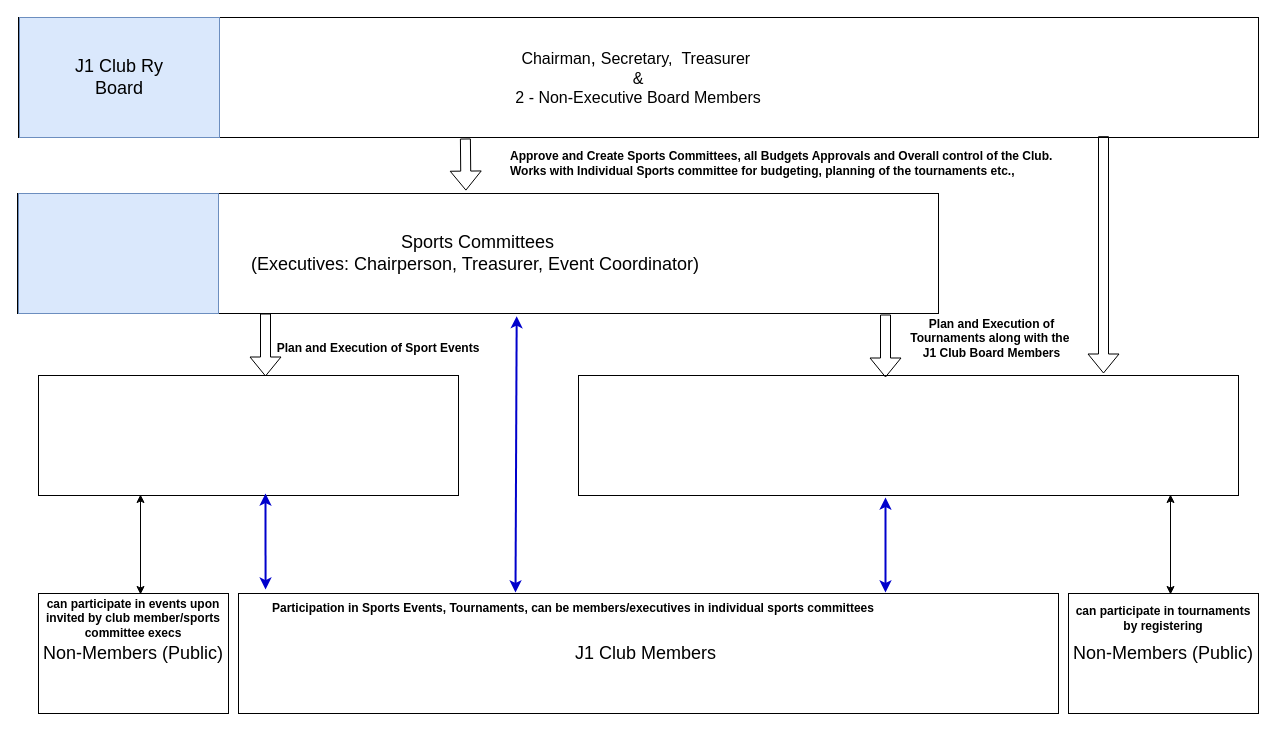
The diagram is 1276 pixels wide and 731 high, and some of its shapes have lost their labels. Here are the shapes that lost their labels. From the top down, the centre of each, then its label:
At (118,253): "J1 <sports> Committee".
At (248,435): "Sports Events (Recurring - Weekly)".
At (908,435): "Tournaments (Quarterly/Bi-Annual/Annual)".
